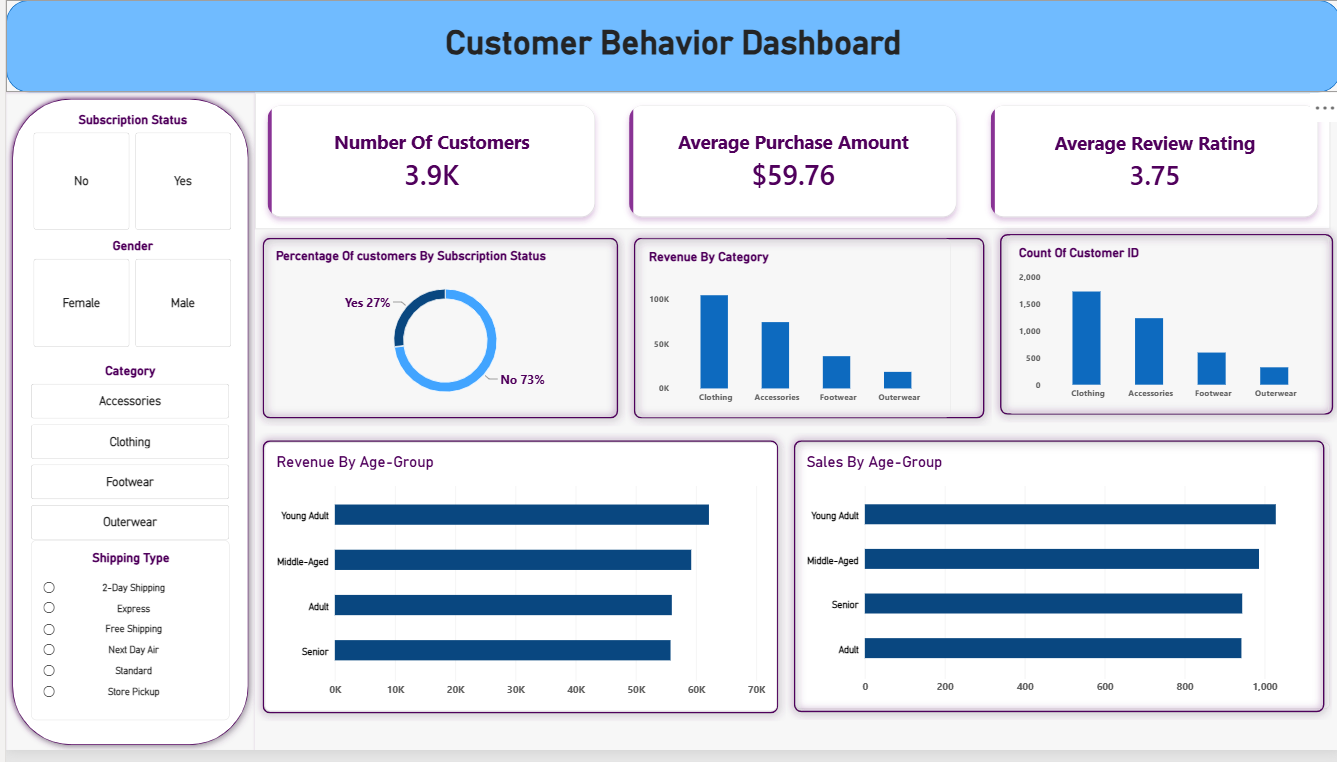

Layout of this report page (visuals, bound fields, positions):
{"tool":"powerbi","page":{"name":"Page 1","canvas":[1920,1080],"ordinal":0},"visuals":[{"type":"cardVisual","fields":{"Data":["customer data.number of customers","customer data.Average Purchase Amount","customer data.Average Review Rating"]},"box":[358.4,132.3,1549.3,197.6],"z":0},{"type":"shape","box":[0,0,1920,133],"z":1000},{"type":"textbox","box":[0,32.4,1920,84.5],"z":2000},{"type":"shape","box":[357.8,330.8,533.9,282.2],"z":3000},{"type":"donutChart","title":"Percentage Of customers By Subscription Status","fields":{"Category":["customer data.subscription_status"],"Y":["CountNonNull(customer data.customer_id)"]},"box":[372.1,343.4,519.6,257.1],"z":4000},{"type":"shape","box":[1418.4,325.4,501.6,282.2],"z":5000},{"type":"shape","box":[891.7,330.8,526.7,282.2],"z":6000},{"type":"clusteredColumnChart","title":"Revenue By Category","fields":{"Category":["customer data.category"],"Y":["Sum(customer data.purchase_amount)"]},"box":[907.9,343.4,451.2,257.1],"z":7000},{"type":"clusteredColumnChart","title":"Count Of Customer ID","fields":{"Category":["customer data.category"],"Y":["CountNonNull(customer data.customer_id)"]},"box":[1440,338,462,257.1],"z":8000},{"type":"shape","box":[0,133,357.8,947.4],"z":9000},{"type":"advancedSlicerVisual","title":"Subscription Status","fields":{"Values":["customer data.subscription_status"]},"box":[37.8,161.8,285.8,169],"z":10000},{"type":"advancedSlicerVisual","title":"Gender","fields":{"Values":["customer data.gender"]},"box":[39.6,343.4,285.8,156.4],"z":11000},{"type":"advancedSlicerVisual","title":"Category","fields":{"Values":["customer data.category"]},"box":[36,523.1,285.8,253.5],"z":12000},{"type":"listSlicer","title":"Shipping Type","fields":{"Values":["customer data.shipping_type"]},"box":[36,776.6,285.8,258.9],"z":13000},{"type":"barChart","title":"Sales By  Age-Group","fields":{"Category":["customer data.age_group"],"Y":["CountNonNull(customer data.customer_id)"]},"box":[1134.4,636.4,769.4,382.9],"z":14000},{"type":"shape","box":[1121.8,622,785.6,413.5],"z":15000},{"type":"shape","box":[357.8,622,764,415.3],"z":16000},{"type":"barChart","title":"Revenue By  Age-Group","fields":{"Category":["customer data.age_group"],"Y":["Sum(customer data.purchase_amount)"]},"box":[372.1,636.4,737.1,386.5],"z":17000}]}

Visuals, with their boxes in screenshot pixels (x1, y1, x2, y2), scaled from the page's 1920x1080 canvas onto the 1337x762 screenshot:
cardVisual - customer data.number of customers x customer data.Average Purchase Amount: <bbox>250, 93, 1328, 233</bbox>
shape: <bbox>0, 0, 1336, 94</bbox>
textbox: <bbox>0, 23, 1336, 82</bbox>
shape: <bbox>249, 233, 621, 433</bbox>
"Percentage Of customers By Subscription Status" donutChart: <bbox>259, 242, 621, 424</bbox>
shape: <bbox>988, 230, 1336, 429</bbox>
shape: <bbox>621, 233, 988, 433</bbox>
"Revenue By Category" clusteredColumnChart: <bbox>632, 242, 946, 424</bbox>
"Count Of Customer ID" clusteredColumnChart: <bbox>1003, 238, 1324, 420</bbox>
shape: <bbox>0, 94, 249, 761</bbox>
"Subscription Status" advancedSlicerVisual: <bbox>26, 114, 225, 233</bbox>
"Gender" advancedSlicerVisual: <bbox>28, 242, 227, 353</bbox>
"Category" advancedSlicerVisual: <bbox>25, 369, 224, 548</bbox>
"Shipping Type" listSlicer: <bbox>25, 548, 224, 731</bbox>
"Sales By  Age-Group" barChart: <bbox>790, 449, 1326, 719</bbox>
shape: <bbox>781, 439, 1328, 731</bbox>
shape: <bbox>249, 439, 781, 732</bbox>
"Revenue By  Age-Group" barChart: <bbox>259, 449, 772, 722</bbox>
